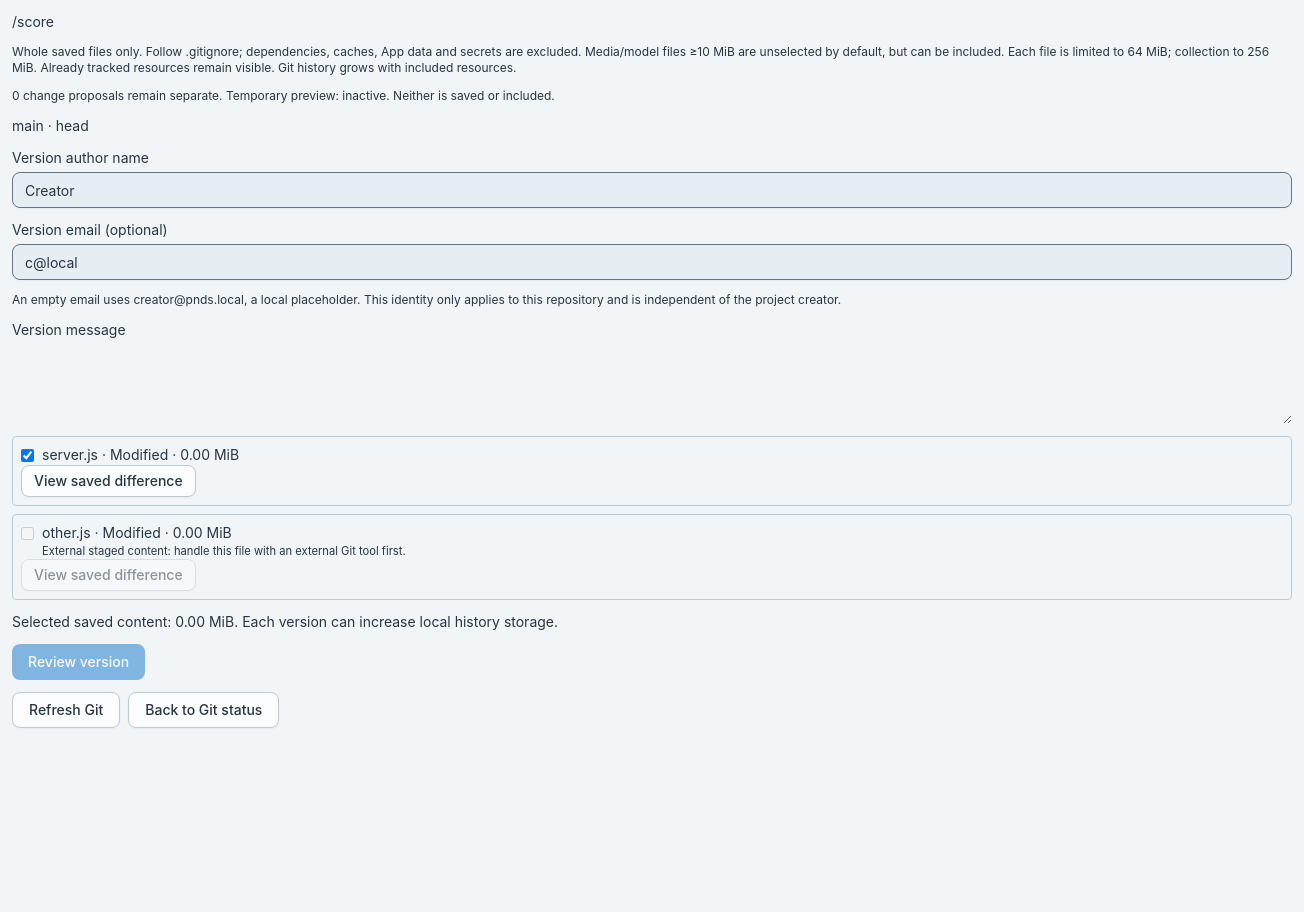
it: shows saved differences and refuses external staged selection without touching drafts
The image size is (1304, 912).
Check: the field labelled "Version author name" is shown, box [12, 172, 1292, 208]
Check: the checkbox labelled "other.js" is disabled, box [21, 527, 34, 540]
Click the button with aria-label "server.js — View saved difference": [108, 481] box [21, 465, 196, 497]
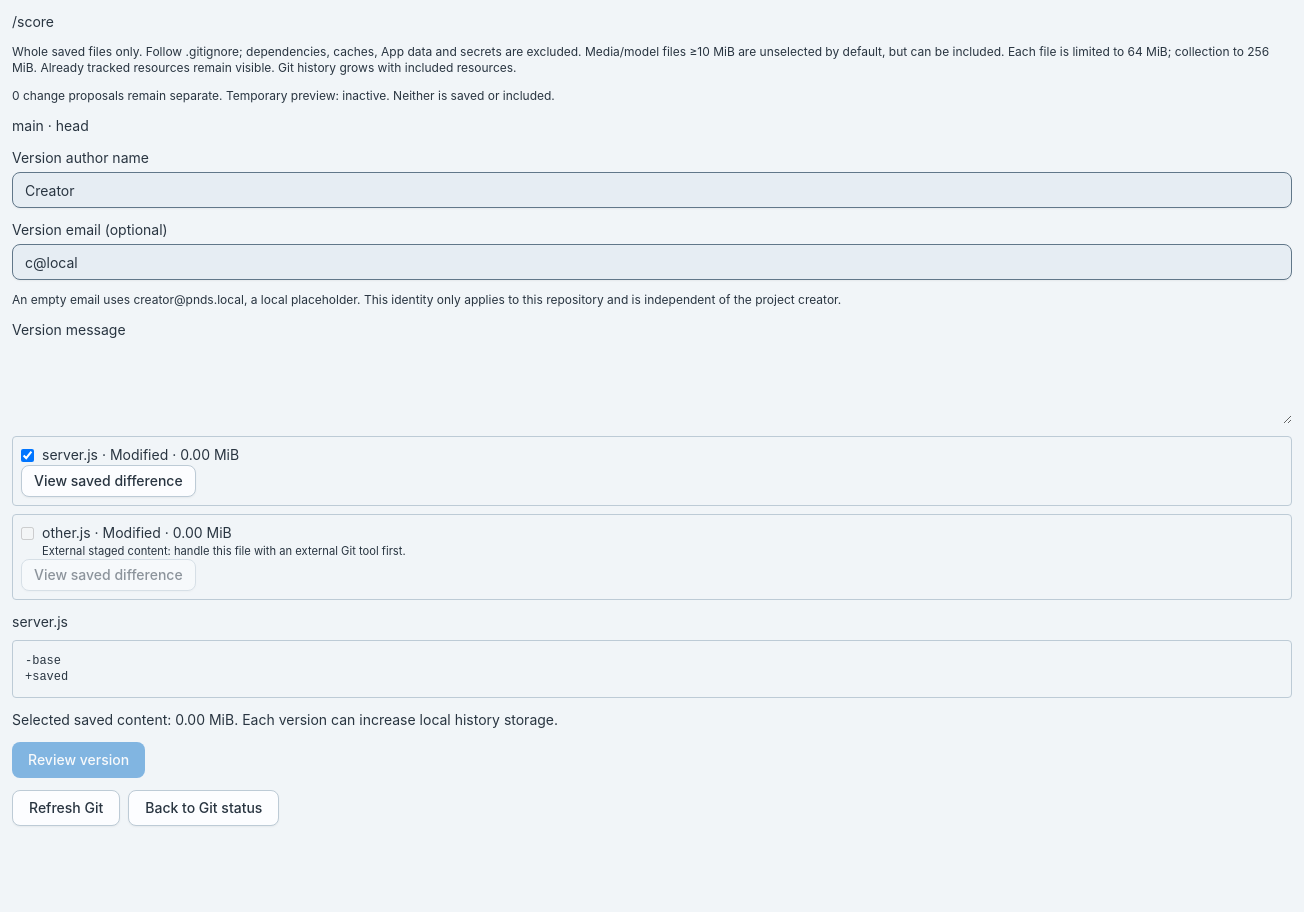
Check: the text "-base +saved" is shown, box [12, 640, 1292, 698]
